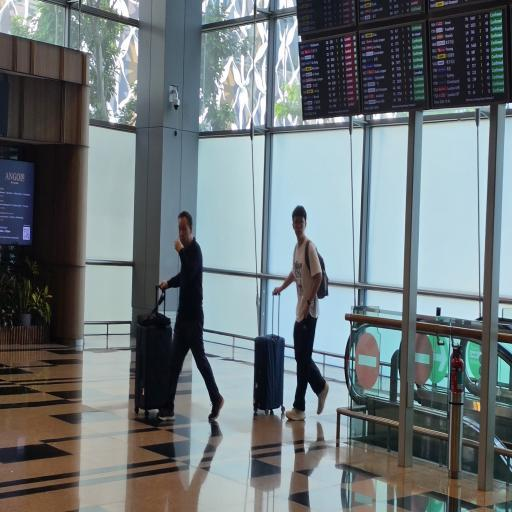person_with_luggage_left: (236, 194, 332, 413), (130, 203, 225, 422)
